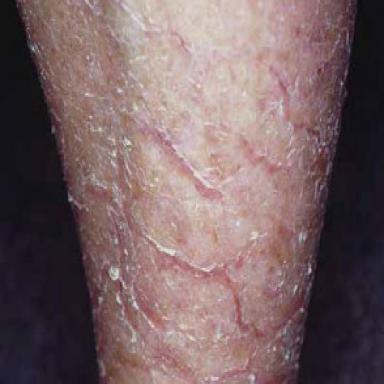eczema: (19, 1, 355, 382)
